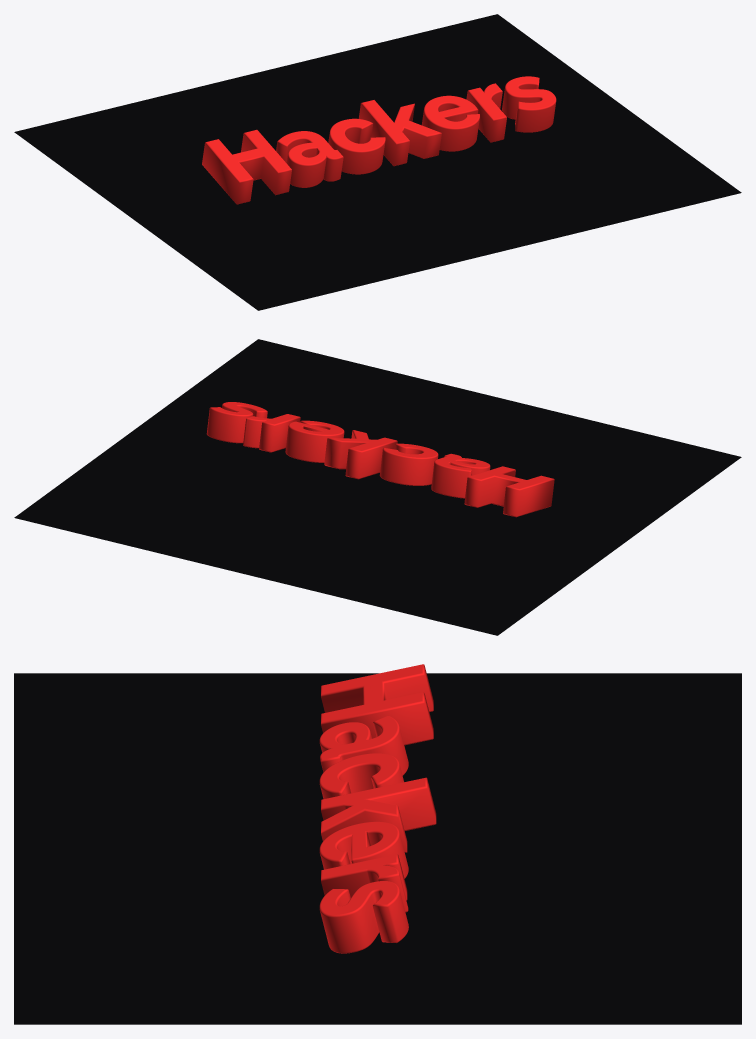
Rendered from hackers8.obj.
The picture shows the model from 3 angles, top to bottom: view 1: azimuth 30°, elevation 25°; view 2: azimuth 150°, elevation 25°; view 3: azimuth 270°, elevation 25°; orthographic projection. The views are drawn at different scales.
Parts seen in each view (by area): view 1: Plane, Hackers; view 2: Plane, Hackers; view 3: Plane, Hackers.
Part boxes in pixels (x1,y1,x2,y2): Plane: [14, 14, 741, 310]; Hackers: [202, 76, 556, 204]; Plane: [14, 339, 741, 635]; Hackers: [206, 402, 554, 517]; Plane: [14, 673, 741, 1024]; Hackers: [319, 664, 436, 953].
Bounding box in the file's own units: 6.34 × 0.6001 × 5.55.
